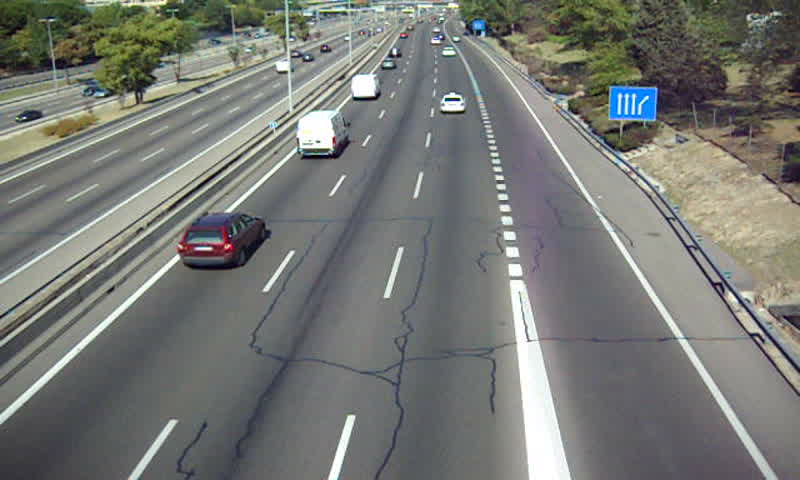car: (180, 211, 268, 269), (440, 93, 465, 113), (380, 58, 397, 70), (441, 46, 457, 58), (389, 46, 402, 58)
van: (295, 110, 349, 156), (350, 74, 380, 97)
